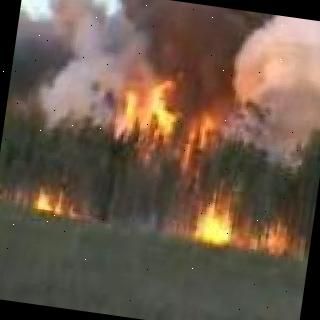fire: (109, 62, 214, 150), (22, 177, 82, 219), (194, 194, 237, 247), (257, 220, 289, 258)
